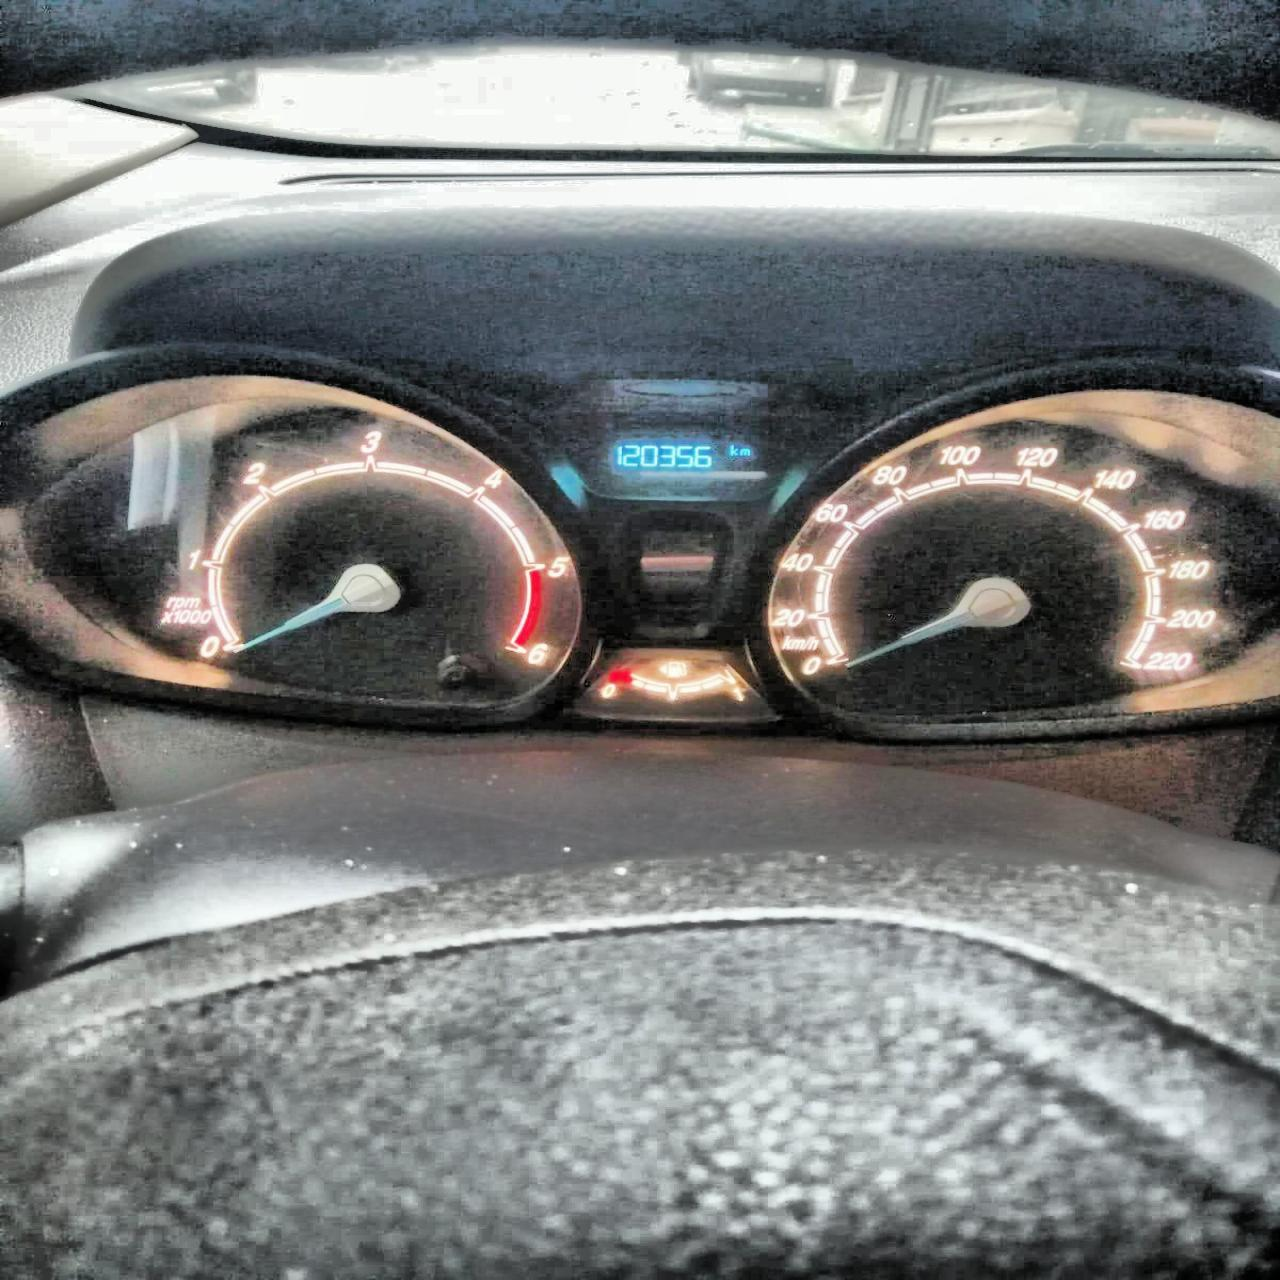0: (640, 444, 658, 467)
1: (615, 443, 621, 468)
2: (622, 443, 639, 467)
3: (658, 444, 674, 467)
5: (676, 444, 694, 467)
6: (694, 444, 713, 467)
X: (729, 443, 738, 456), (738, 448, 750, 457)
odometer: (598, 430, 767, 484)
